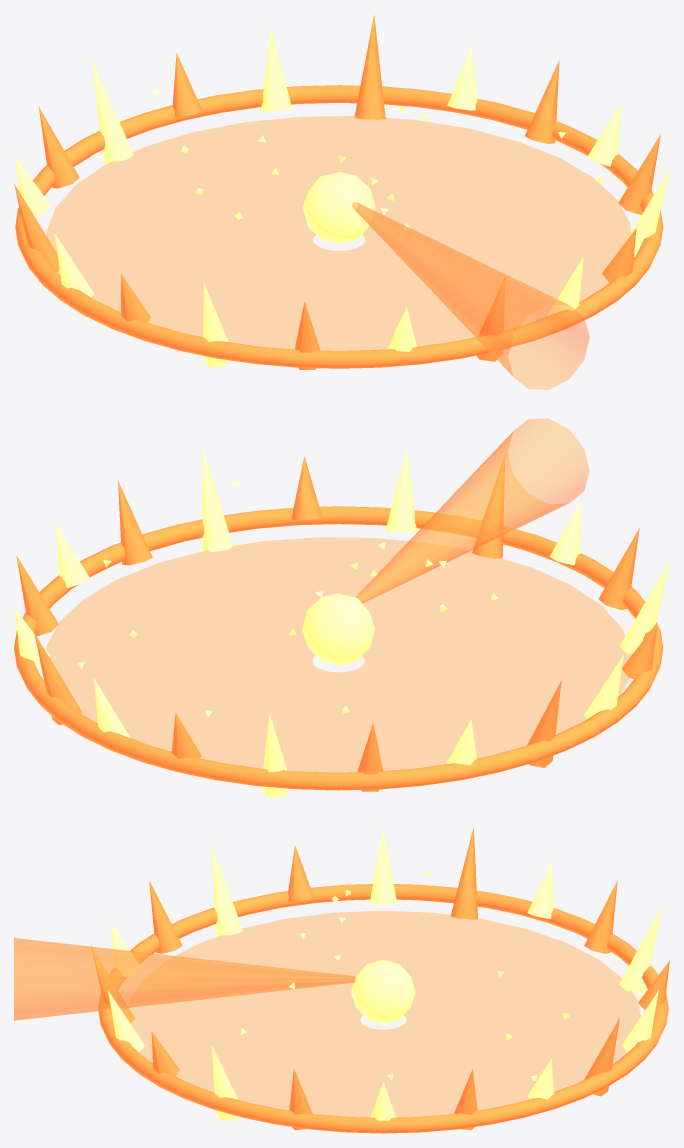
Rendered from vfx_ability_ignitionwave.glb.
The picture shows the model from 3 angles, top to bottom: view 1: azimuth 30°, elevation 25°; view 2: azimuth 150°, elevation 25°; view 3: azimuth 270°, elevation 25°; orthographic projection. The views are drawn at different scales.
Visible parts, largest first — view 1: iw_scorch, iw_ring, iw_splash, iw_core, iw_crest17, iw_crest14, iw_crest16, iw_crest19, iw_crest13, iw_crest1, iw_crest11, iw_crest18 (+12 smaller); view 2: iw_scorch, iw_ring, iw_splash, iw_core, iw_crest2, iw_crest5, iw_crest4, iw_crest8, iw_crest1, iw_crest7, iw_crest19, iw_crest17 (+12 smaller); view 3: iw_scorch, iw_ring, iw_splash, iw_core, iw_crest11, iw_crest8, iw_crest14, iw_crest10, iw_crest7, iw_crest13, iw_crest5, iw_crest9 (+12 smaller).
Boxes of the visible parts, x1=… form: iw_scorch: x1=46, y1=116, x2=630, y2=350; iw_ring: x1=15, y1=85, x2=663, y2=368; iw_splash: x1=352, y1=202, x2=589, y2=389; iw_core: x1=302, y1=172, x2=375, y2=243; iw_crest17: x1=354, y1=14, x2=385, y2=119; iw_crest14: x1=92, y1=60, x2=133, y2=163; iw_crest16: x1=261, y1=27, x2=292, y2=111; iw_crest19: x1=525, y1=59, x2=559, y2=143; iw_crest13: x1=38, y1=106, x2=79, y2=188; iw_crest1: x1=618, y1=134, x2=660, y2=214; iw_crest11: x1=14, y1=183, x2=59, y2=272; iw_crest18: x1=447, y1=46, x2=477, y2=110; iw_scorch: x1=46, y1=537, x2=631, y2=772; iw_ring: x1=14, y1=506, x2=663, y2=790; iw_splash: x1=355, y1=418, x2=589, y2=603; iw_core: x1=302, y1=593, x2=375, y2=665; iw_crest2: x1=202, y1=447, x2=233, y2=552; iw_crest5: x1=472, y1=453, x2=505, y2=558; iw_crest4: x1=385, y1=448, x2=416, y2=532; iw_crest8: x1=619, y1=561, x2=669, y2=655; iw_crest1: x1=118, y1=481, x2=152, y2=565; iw_crest7: x1=598, y1=528, x2=639, y2=609; iw_crest19: x1=16, y1=555, x2=58, y2=636; iw_crest17: x1=34, y1=633, x2=81, y2=725; iw_scorch: x1=129, y1=910, x2=640, y2=1117; iw_ring: x1=98, y1=884, x2=668, y2=1133; iw_splash: x1=14, y1=938, x2=355, y2=1020; iw_core: x1=351, y1=960, x2=415, y2=1023; iw_crest11: x1=451, y1=827, x2=477, y2=919; iw_crest8: x1=211, y1=845, x2=242, y2=936; iw_crest14: x1=619, y1=906, x2=661, y2=994; iw_crest10: x1=369, y1=830, x2=396, y2=904; iw_crest7: x1=149, y1=881, x2=182, y2=953; iw_crest13: x1=584, y1=880, x2=617, y2=953; iw_crest5: x1=90, y1=945, x2=134, y2=1023; iw_crest9: x1=288, y1=845, x2=313, y2=901.
Size of the model in its own units: 12.48 by 2.4 by 14.21.
